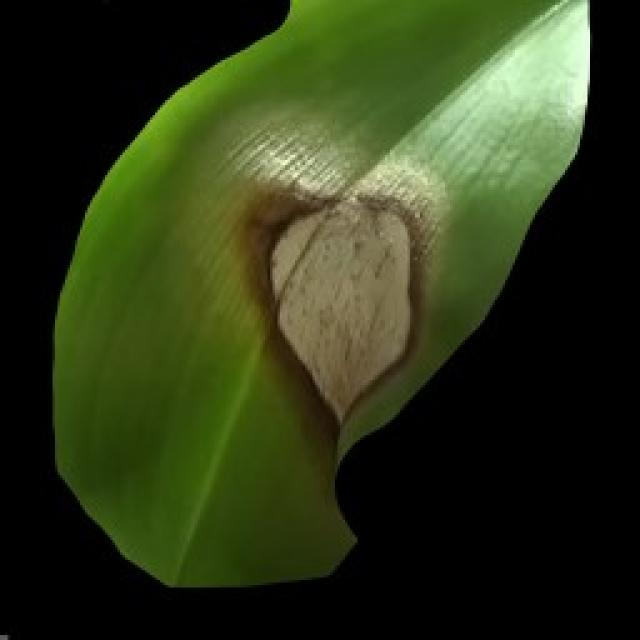spots: (48, 0, 595, 590)
sunburn: (235, 178, 438, 428)
